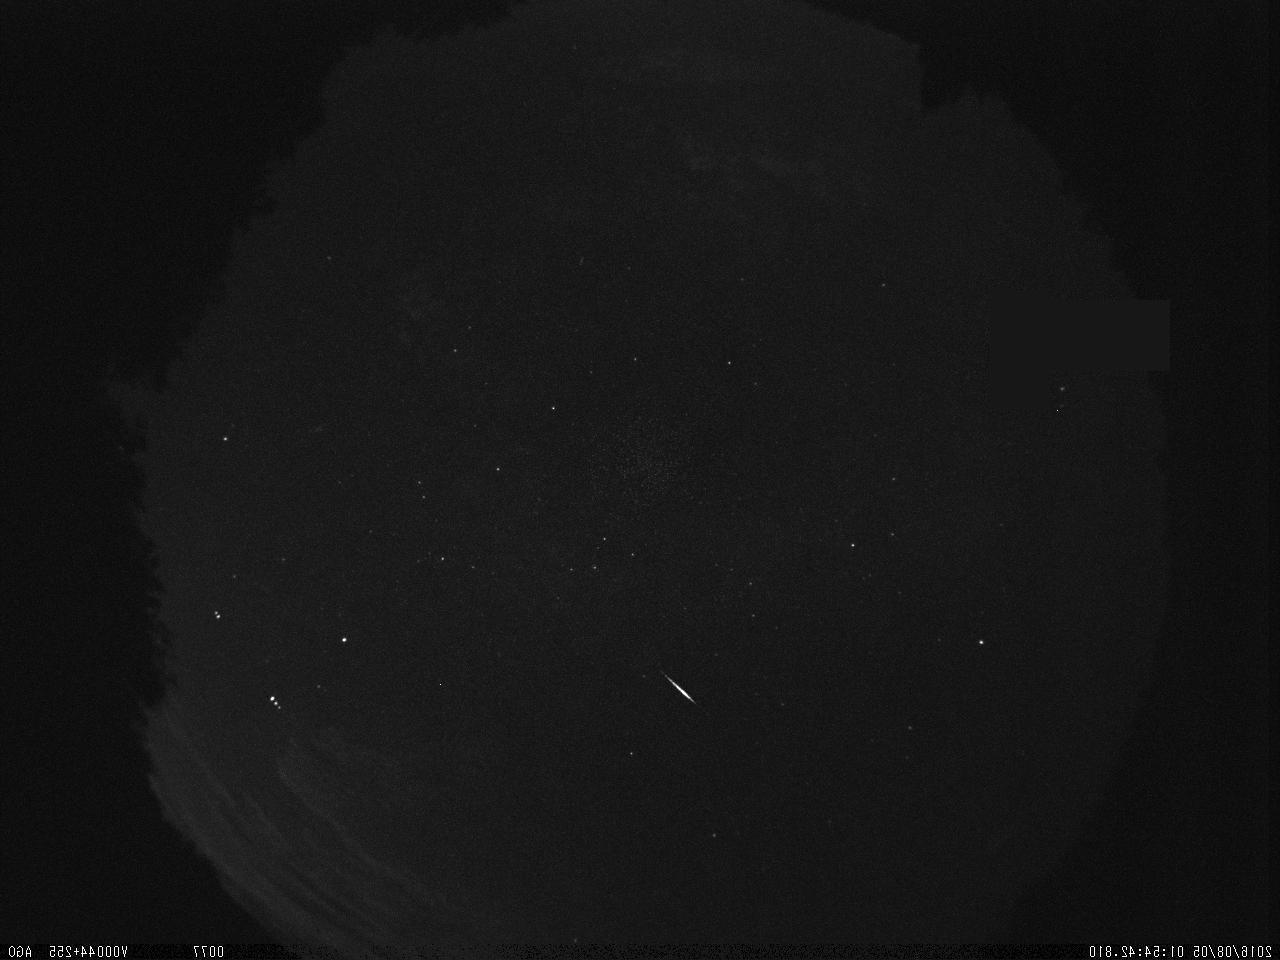meteor: (650, 659, 713, 719)
